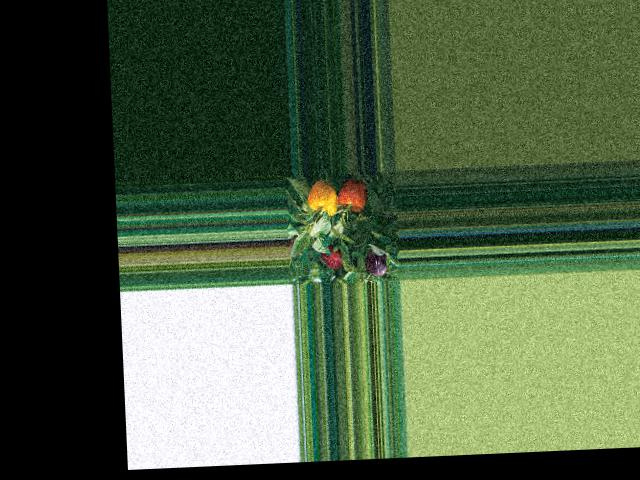bell_pepper: (306, 180, 346, 217)
